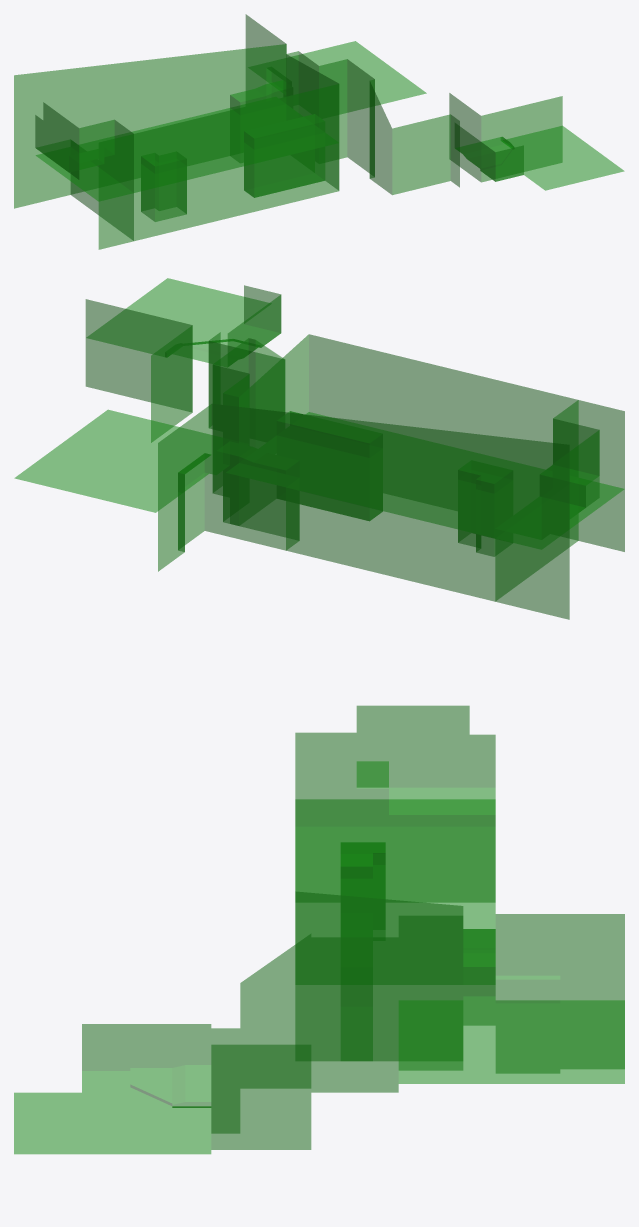
File: camera_hit.obj
3 renders of one model, top to bottom at view 1: azimuth 30°, elevation 25°; view 2: azimuth 150°, elevation 25°; view 3: azimuth 270°, elevation 25°, orthographic. The views are drawn at different scales.
Bounding box in the file's own units: 259 × 72 × 189.
